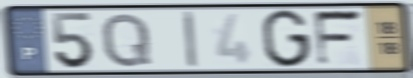4: (212, 10, 256, 68)
5: (49, 11, 96, 71)
F: (311, 8, 366, 69)
G: (261, 8, 312, 70)
I: (180, 9, 200, 70)
Q: (99, 11, 154, 70)
